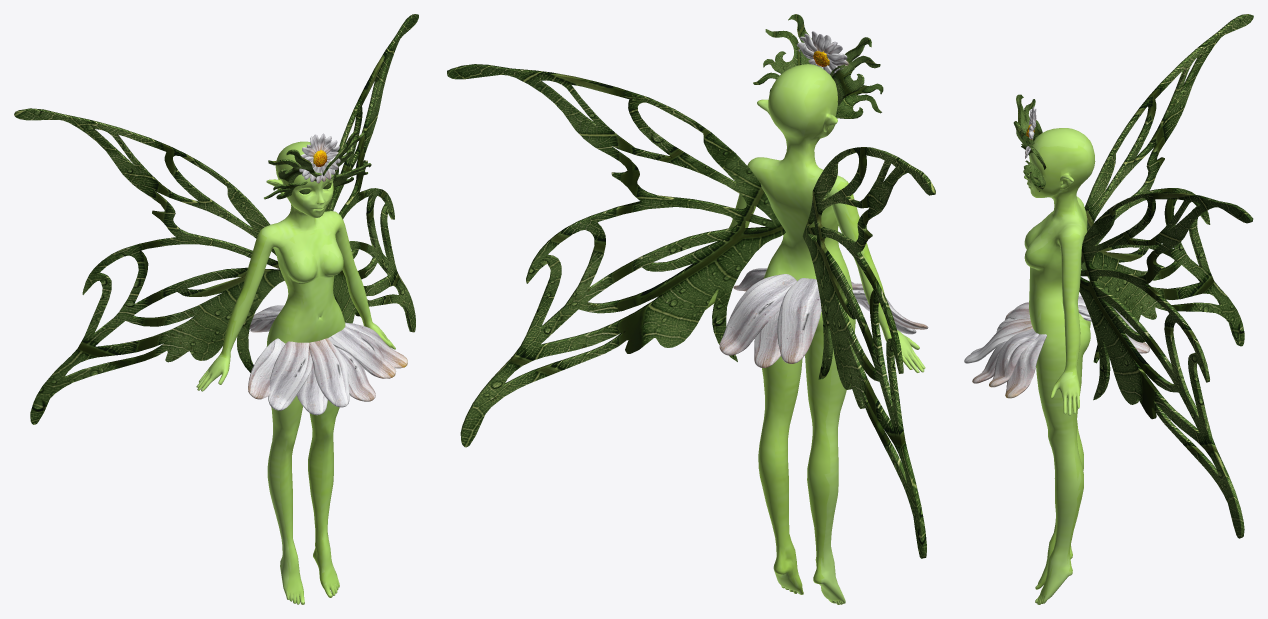
Rendered from fada.obj.
3 renders of one model, left to right at view 1: azimuth 30°, elevation 25°; view 2: azimuth 150°, elevation 25°; view 3: azimuth 270°, elevation 25°, orthographic. The views are drawn at different scales.
Parts seen in each view (by area): view 1: asas, corpo, saia2, headpiece, flower; view 2: asas, corpo, saia2, headpiece, flower; view 3: asas, corpo, saia2, headpiece.
Part boxes in pixels (bbox=[...]): asas: bbox=[14, 14, 418, 424]; corpo: bbox=[196, 141, 395, 604]; saia2: bbox=[248, 305, 407, 415]; headpiece: bbox=[264, 131, 371, 199]; flower: bbox=[298, 133, 340, 183]; asas: bbox=[447, 64, 935, 558]; corpo: bbox=[705, 64, 925, 604]; saia2: bbox=[719, 268, 928, 367]; headpiece: bbox=[753, 14, 883, 118]; flower: bbox=[797, 31, 848, 74]; asas: bbox=[1079, 14, 1253, 538]; corpo: bbox=[1024, 128, 1095, 604]; saia2: bbox=[964, 295, 1149, 398]; headpiece: bbox=[1013, 94, 1046, 191].
Size of the model in its own units: 1.63 by 1.81 by 0.9722.
4 materials, 4 textured.
